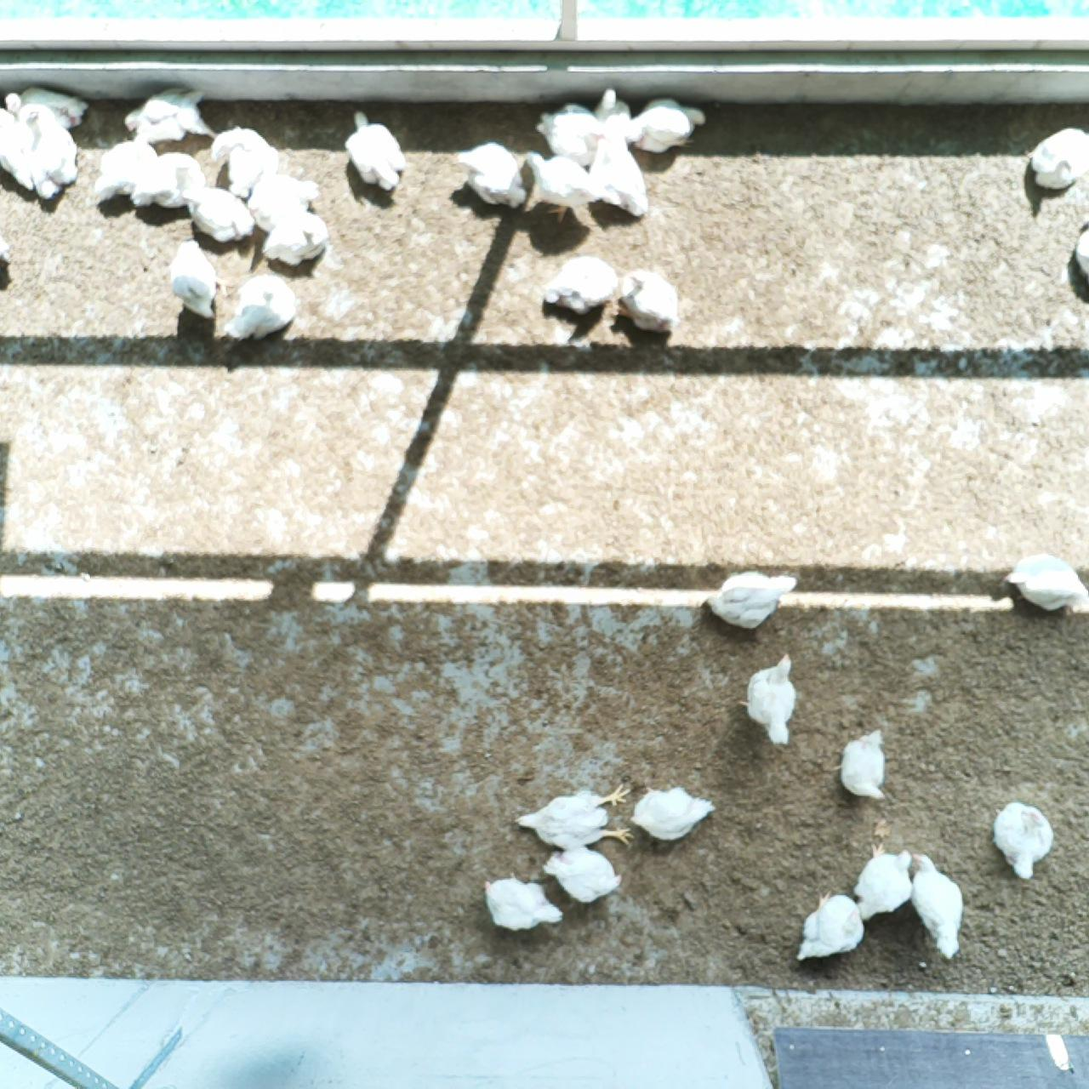chicken: (515, 782, 638, 853), (117, 80, 221, 150), (520, 147, 612, 224), (581, 122, 653, 220), (705, 563, 801, 636), (907, 850, 967, 964), (736, 650, 803, 750), (166, 237, 238, 324), (341, 104, 410, 194), (475, 868, 566, 936), (538, 838, 628, 906), (987, 795, 1055, 884), (792, 887, 869, 964), (1000, 549, 1089, 615), (207, 121, 282, 199), (22, 106, 84, 200), (606, 263, 682, 339), (449, 138, 526, 213), (629, 782, 720, 844), (128, 147, 211, 212), (852, 838, 915, 922), (178, 182, 259, 247), (626, 92, 709, 155), (225, 273, 299, 342), (90, 135, 160, 207), (539, 254, 619, 317), (830, 728, 893, 802), (245, 170, 320, 232), (261, 207, 332, 272), (535, 100, 603, 167), (1023, 124, 1089, 191), (2, 81, 90, 128), (0, 103, 39, 196), (591, 84, 635, 140), (47, 170, 51, 174)
